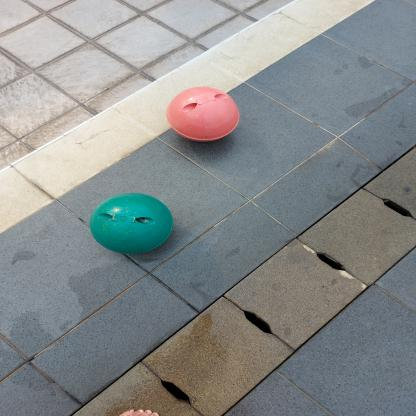green_buoy: (86, 190, 177, 255)
red_buoy: (164, 86, 243, 145)
